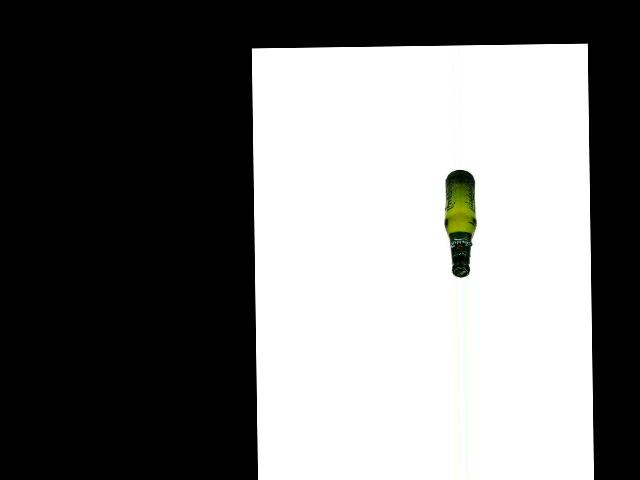beer: (444, 169, 477, 277)
